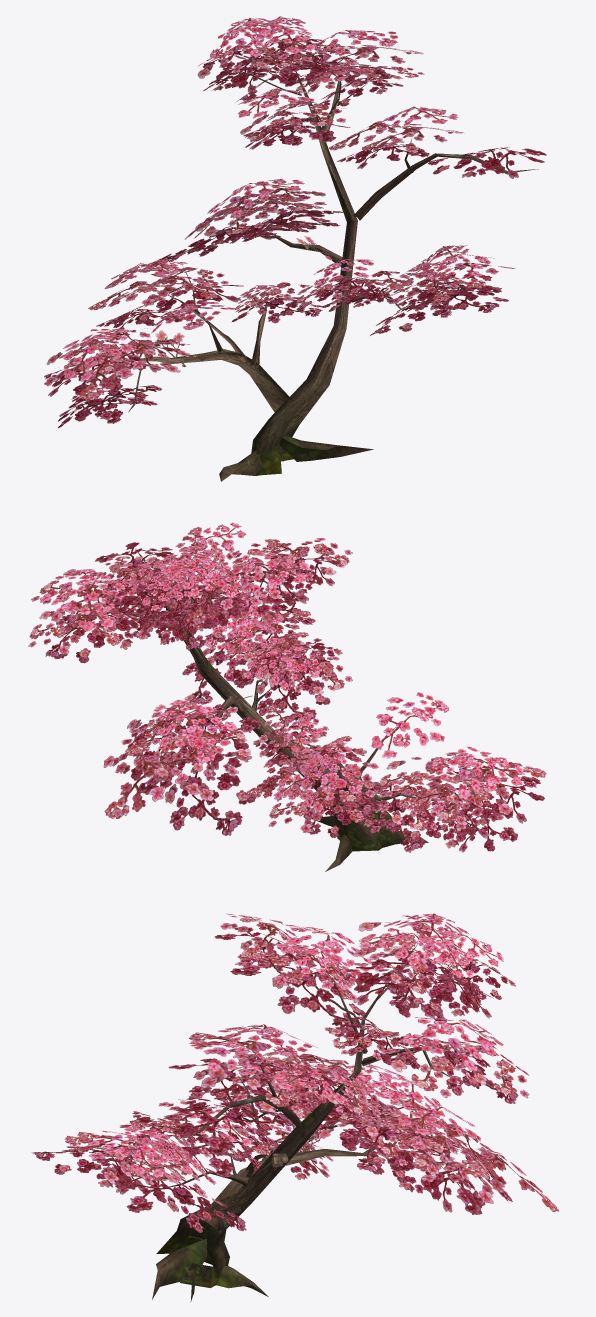
Rendered from S_Tree_Red002_H5.FBX.
3 views of the same model, one above another, from view 1: azimuth 30°, elevation 25°; view 2: azimuth 150°, elevation 25°; view 3: azimuth 270°, elevation 25° (orthographic). The views are drawn at different scales.
Visible parts, largest first — view 1: S_Tree_Red002_H5_2, S_Tree_Red002_H5_1; view 2: S_Tree_Red002_H5_2, S_Tree_Red002_H5_1; view 3: S_Tree_Red002_H5_2, S_Tree_Red002_H5_1.
Boxes of the visible parts, x1=… form: S_Tree_Red002_H5_2: x1=44, y1=16, x2=546, y2=428; S_Tree_Red002_H5_1: x1=100, y1=66, x2=538, y2=481; S_Tree_Red002_H5_2: x1=28, y1=522, x2=546, y2=852; S_Tree_Red002_H5_1: x1=80, y1=549, x2=478, y2=871; S_Tree_Red002_H5_2: x1=31, y1=913, x2=558, y2=1232; S_Tree_Red002_H5_1: x1=152, y1=944, x2=449, y2=1302.
Bounding box in the file's own units: 1750 × 1142 × 1415.
Materials: 2 (2 with a texture image).
